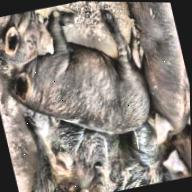boar: (0, 27, 161, 147), (5, 112, 163, 192), (119, 2, 191, 152), (0, 8, 62, 91)
